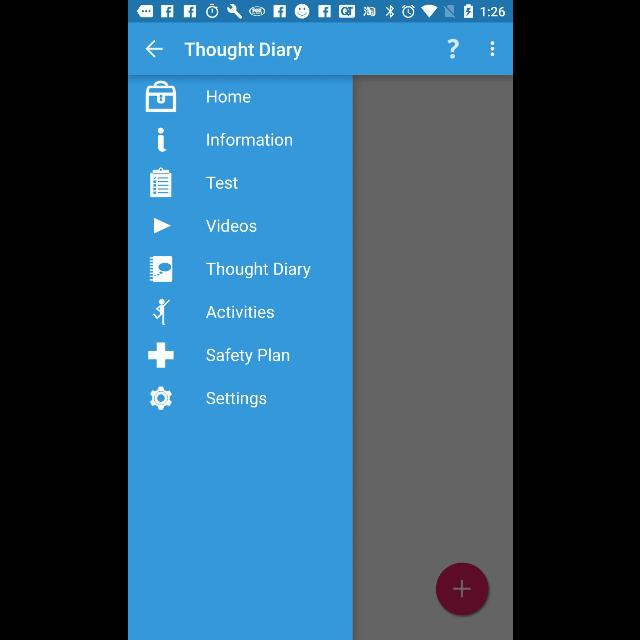icon: (434, 562, 488, 616), (144, 122, 178, 158), (144, 81, 176, 113), (147, 342, 173, 368), (149, 168, 171, 198), (148, 255, 172, 282), (149, 386, 171, 410), (144, 40, 162, 58), (153, 218, 171, 235), (446, 39, 458, 60), (490, 41, 494, 57)
image: (150, 298, 170, 326)
panel: (128, 76, 352, 640)
text: (182, 41, 302, 60), (206, 262, 310, 280), (205, 348, 288, 366), (206, 133, 292, 147), (204, 305, 274, 319), (206, 392, 266, 408), (204, 219, 256, 233), (206, 90, 250, 102), (205, 176, 238, 190)
toolbar: (128, 23, 512, 75)
uppertaskbar: (128, 1, 512, 23)
